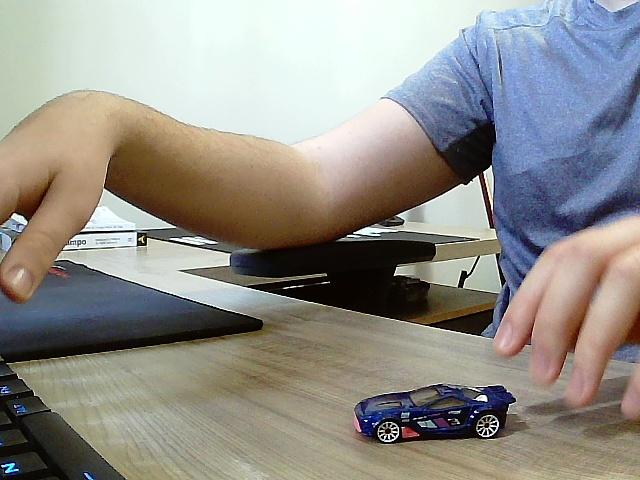Carro: (355, 385, 514, 445)
